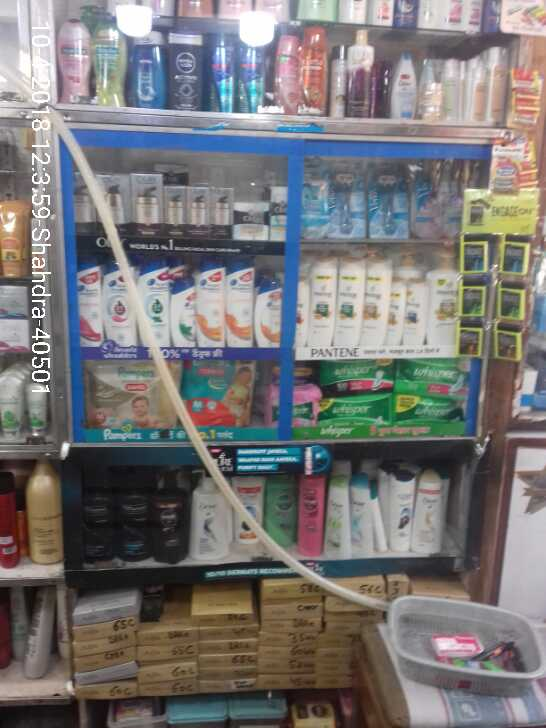venus: (412, 161, 465, 241), (367, 162, 412, 241), (331, 162, 367, 244), (303, 158, 331, 244)
